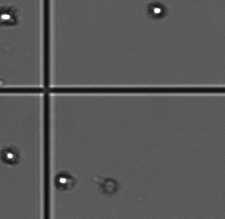Dead Cell: (102, 177, 117, 196)
Living Cell: (1, 7, 18, 28), (54, 172, 72, 189), (2, 147, 19, 165), (149, 3, 166, 18)
